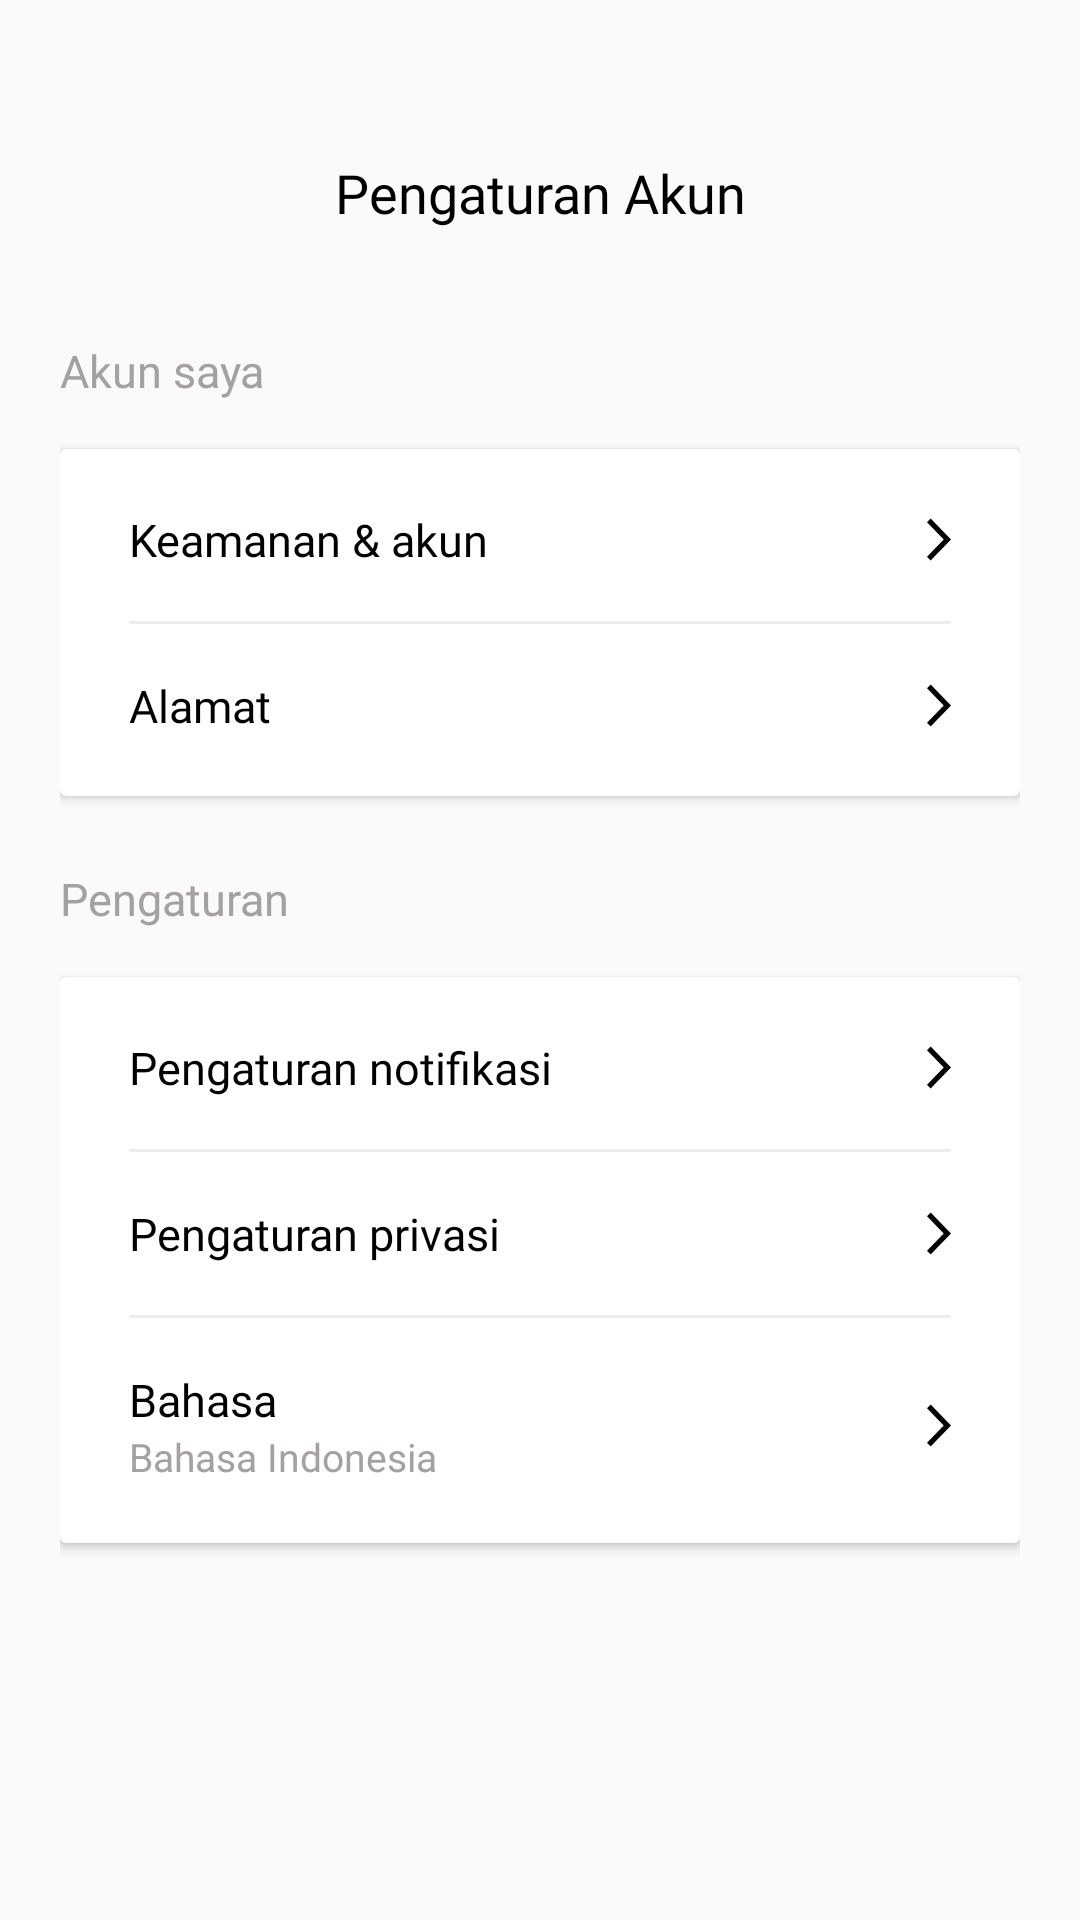

Icon bounding boxes for this 1080 × 1920 phone screenshot, format [x1, y1, x2, y2]:
next: [927, 518, 951, 561], [927, 684, 951, 727], [927, 1046, 951, 1089], [927, 1212, 951, 1255], [927, 1404, 951, 1447]
